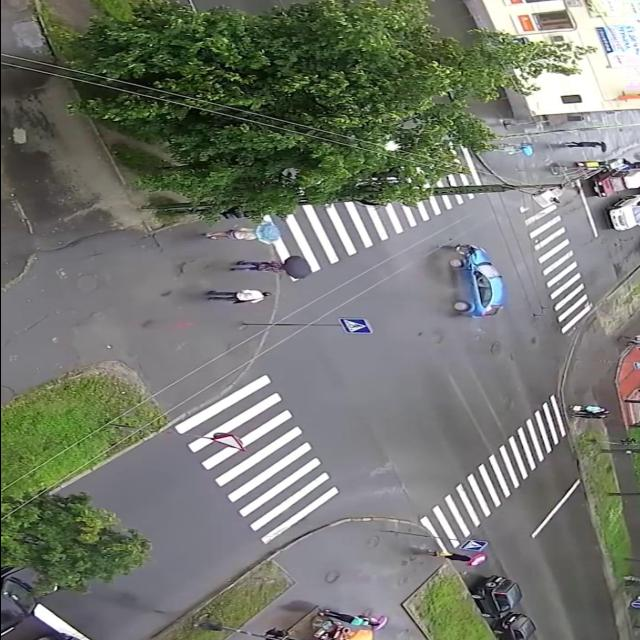accident: (427, 236, 516, 322)
